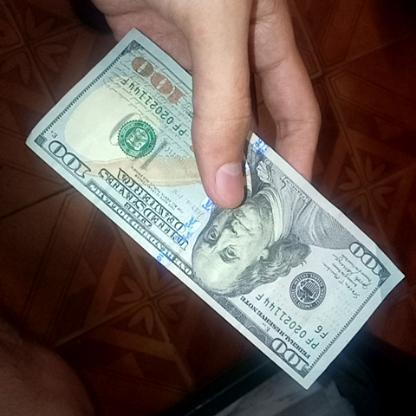one_hundred-front: (25, 28, 410, 394)
